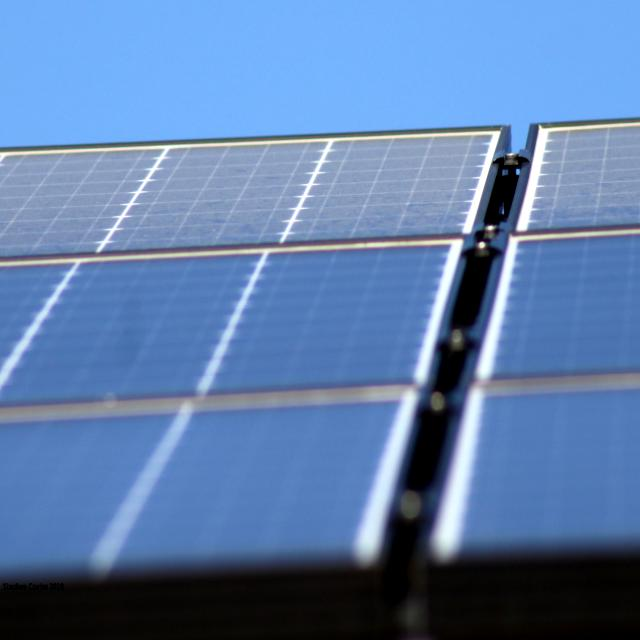dust: (314, 126, 500, 230), (141, 144, 297, 236), (0, 151, 121, 250), (532, 122, 635, 223)
